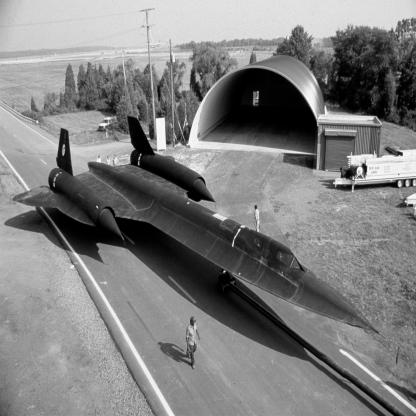SR71: (13, 116, 402, 349)
